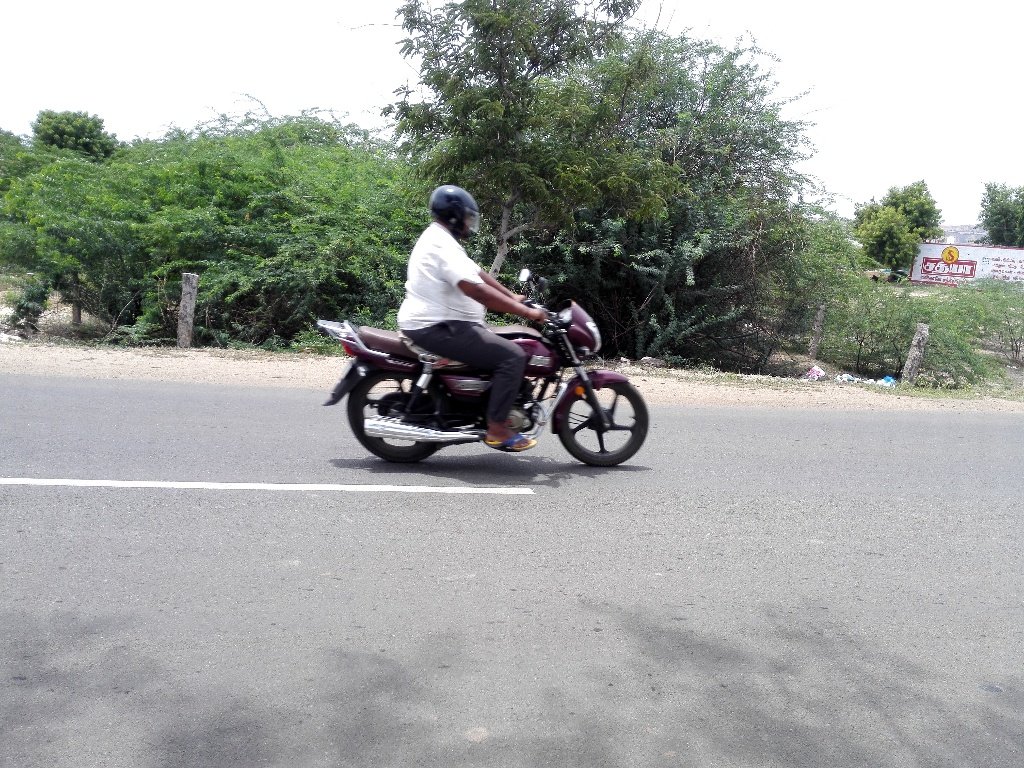biker: (292, 140, 671, 487)
helmet: (422, 172, 496, 252)
